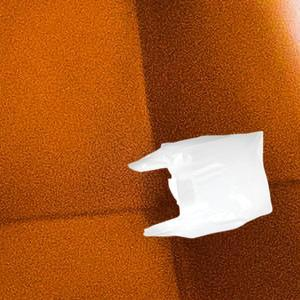plastic_bag: (125, 129, 275, 242)
